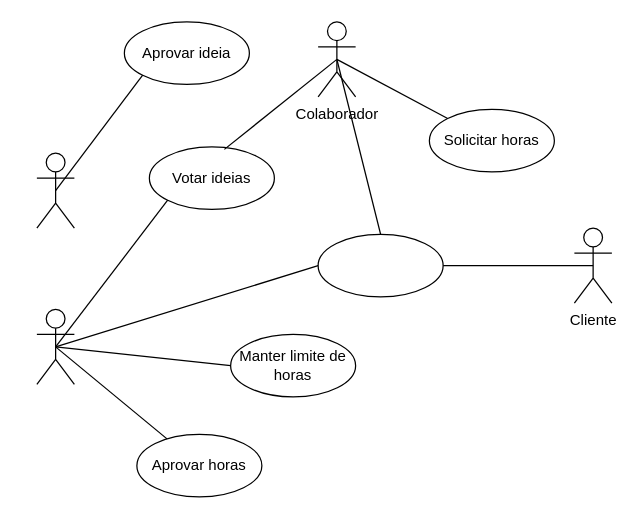
Some shapes in this 638 by 519 pixel diagram are drawn without their labels. The shapes that lost their labels are listed below. From the top down, each one's box as (x1, y1, x2, y2) in pixels, then its label:
(36, 152, 74, 228): Aprovador
(317, 233, 443, 297): Cadastrar ideias
(36, 308, 74, 384): Gestor
